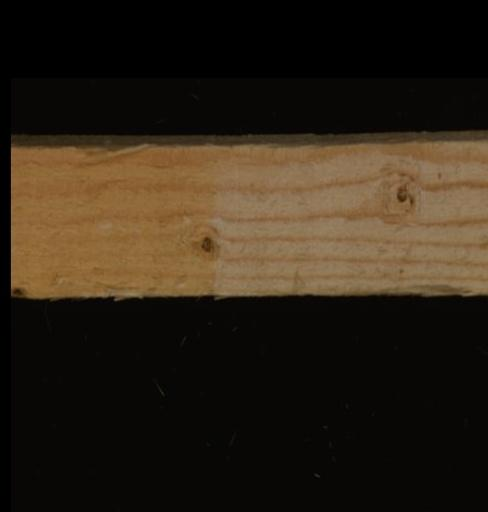edge_knot: (10, 281, 26, 299)
small_knot: (374, 164, 425, 227), (184, 221, 224, 264)
